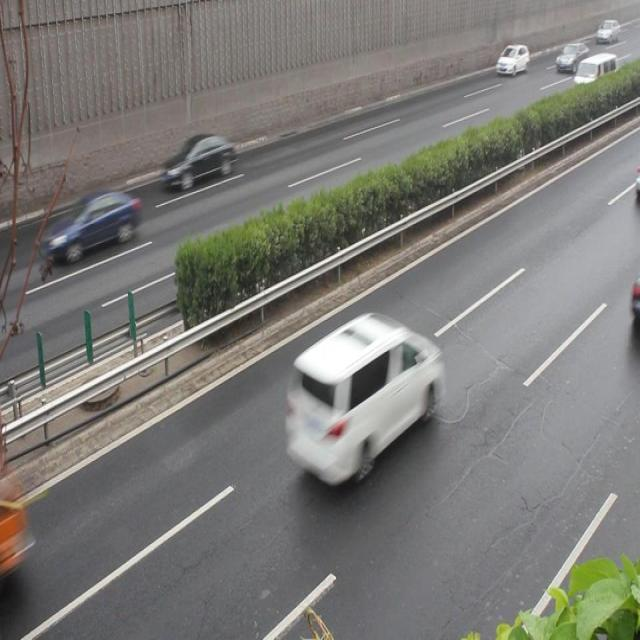bus: (1, 461, 31, 582)
car: (284, 312, 443, 478), (41, 189, 140, 263), (162, 132, 237, 190), (495, 42, 528, 77)
